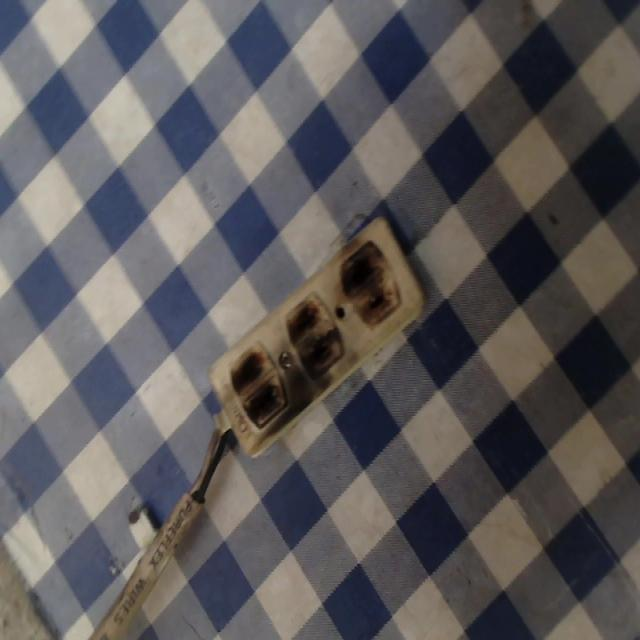-: (340, 238, 401, 334), (284, 289, 343, 382), (228, 340, 289, 428)
